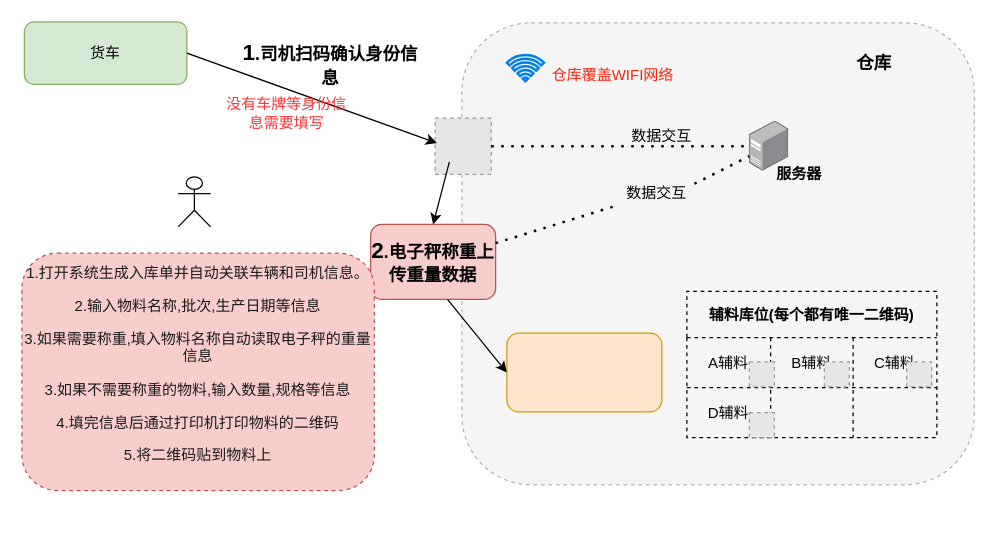
Some shapes in this 996 by 535 pixel diagram are drawn without their labels. Grey dashed boxes stand in for pictures. Each missing label, with the centre of its shape:
"3 .将贴有二维码的物料存放至库位" goes at [584,372].
"库管" goes at [194,201].
